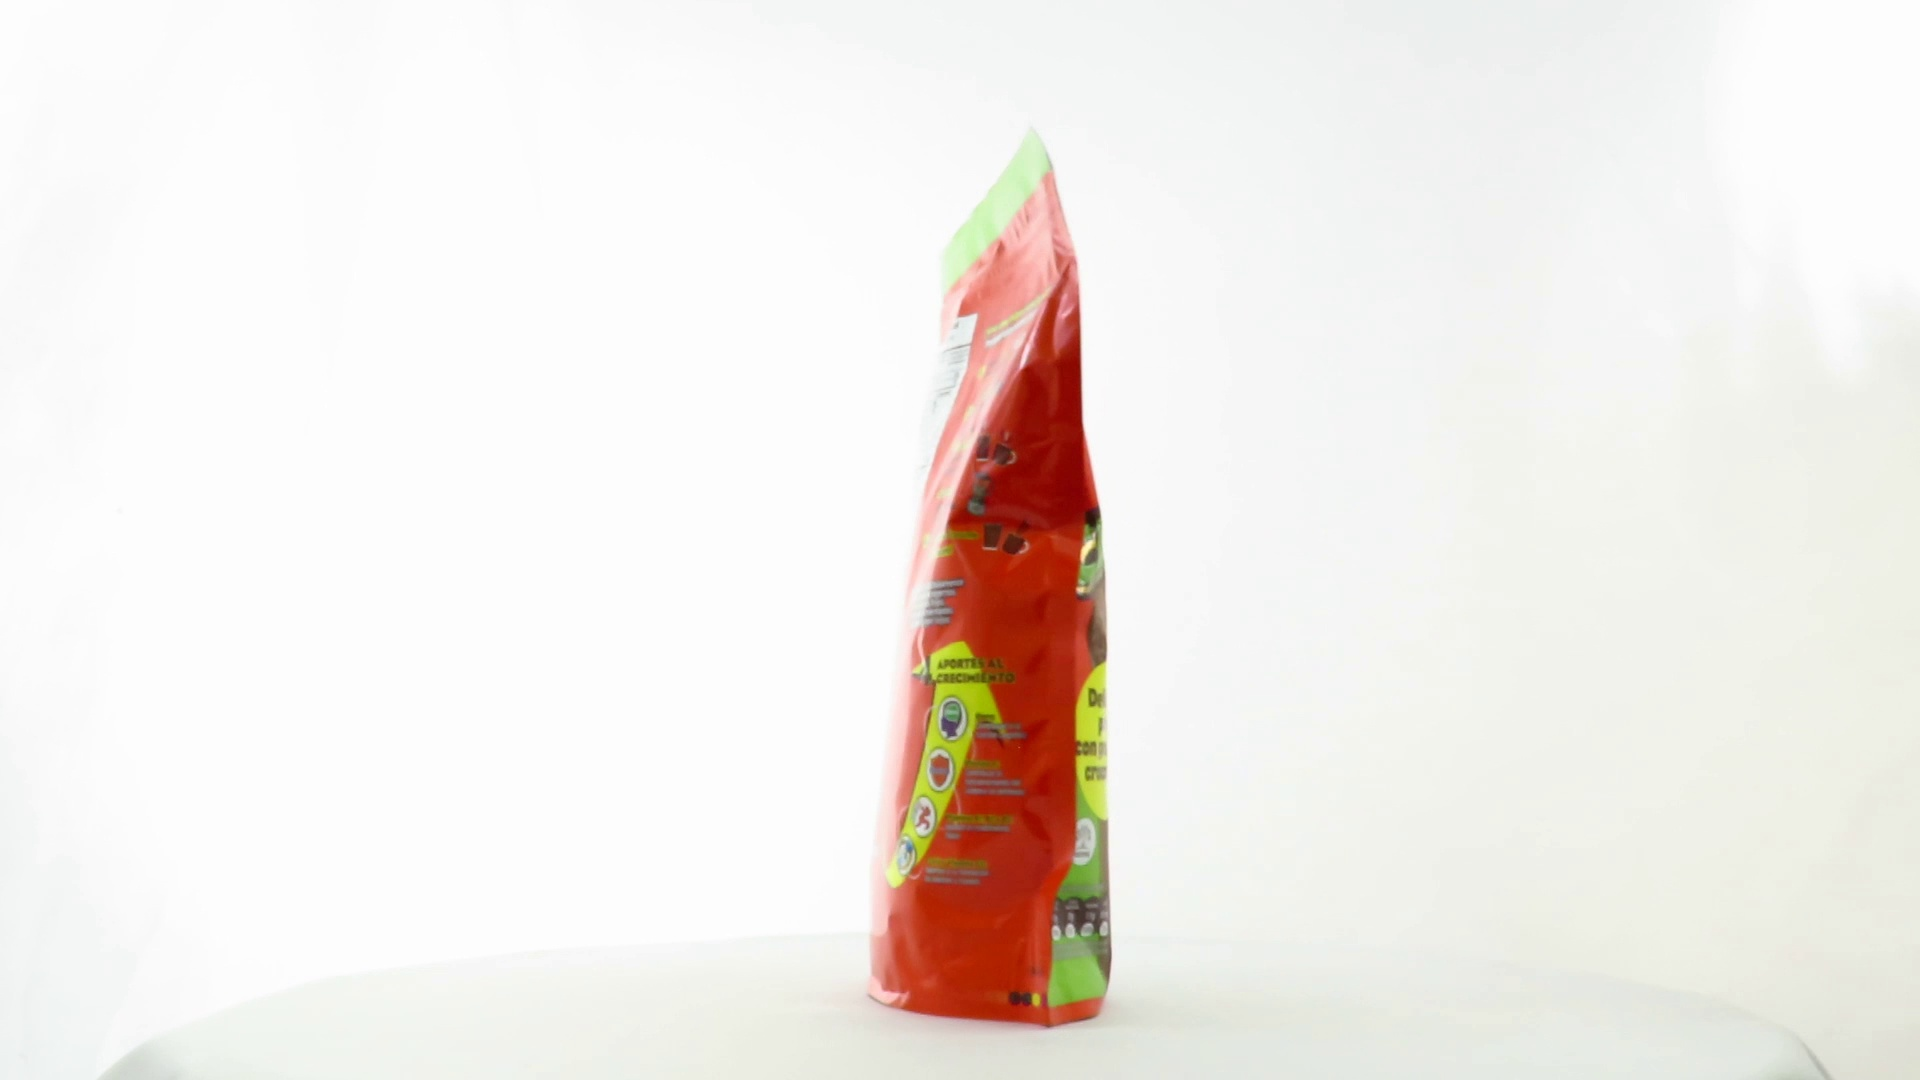COL0170102DYP50000: (862, 121, 1118, 1034)
